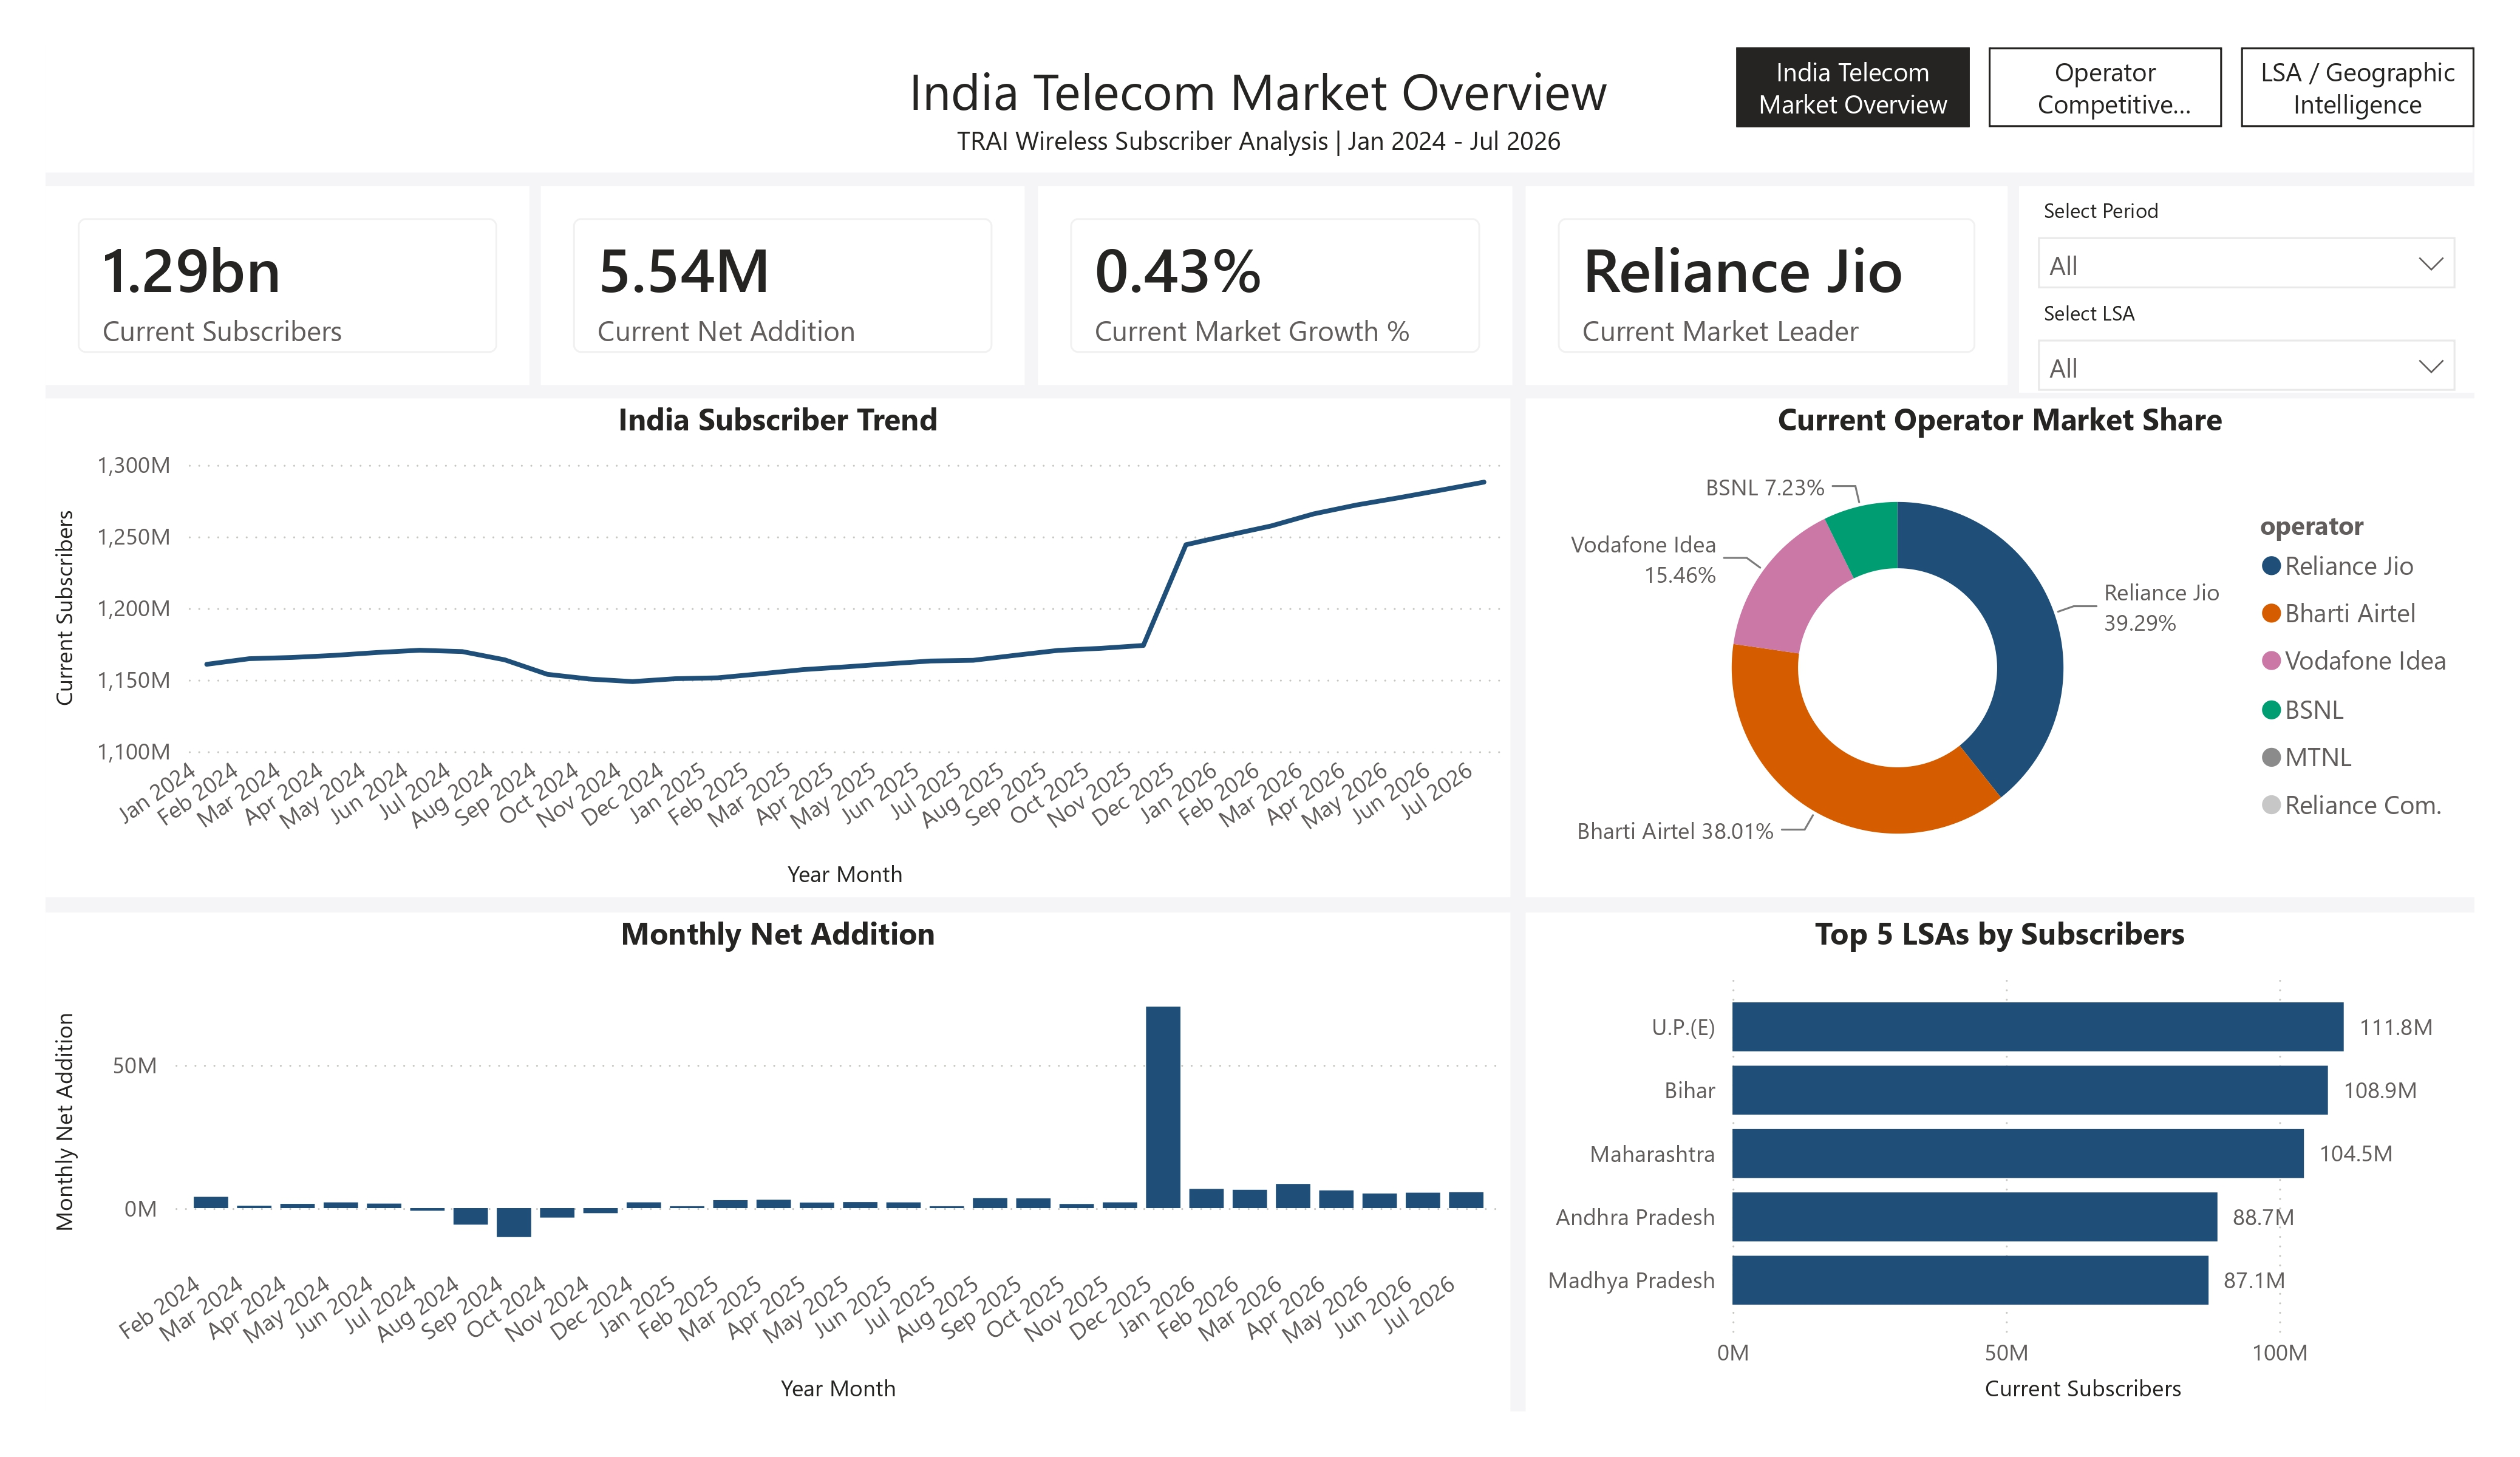

What the dashboard file says about the page in this screenshot:
{"tool":"powerbi","page":{"name":"India Telecom Market Overview","canvas":[1280,720],"ordinal":0},"visuals":[{"type":"cardVisual","fields":{"Data":["Fact_Telecom.Current Subscribers"]},"box":[0,74,255,105],"z":0},{"type":"cardVisual","fields":{"Data":["Fact_Telecom.Current Net Addition"]},"box":[261,74,255,105],"z":1000},{"type":"cardVisual","fields":{"Data":["Fact_Telecom.Current Market Growth %"]},"box":[522.9,74,250,105],"z":2000},{"type":"lineChart","title":"India Subscriber Trend","fields":{"Category":["Dim_Date.Year Month"],"Y":["Fact_Telecom.Current Subscribers"]},"box":[0,186,772,263],"z":3000},{"type":"clusteredColumnChart","title":"Monthly Net Addition","fields":{"Category":["Dim_Date.Year Month"],"Y":["Fact_Telecom.Monthly Net Addition"]},"box":[0,457,772,263],"z":4000},{"type":"donutChart","title":"Current Operator Market Share","fields":{"Category":["Fact_Telecom.operator"],"Y":["Fact_Telecom.Current Operator Share %"]},"box":[780,186,500,263],"z":5000},{"type":"cardVisual","fields":{"Data":["Fact_Telecom.Current Market Leader"]},"box":[780,74,254,105],"z":6000},{"type":"slicer","fields":{"Values":["Dim_Date.Year Month"]},"box":[1040,74,240,54],"z":7000},{"type":"slicer","title":"Select LSA","fields":{"Values":["Fact_Telecom.lsa"]},"box":[1040,128,240,54.7],"z":8000},{"type":"clusteredBarChart","title":"Top 5 LSAs by Subscribers","fields":{"Category":["Fact_Telecom.lsa"],"Y":["Fact_Telecom.Current Subscribers"]},"box":[780,457,500,263],"z":9000},{"type":"textbox","box":[0,0,1278.4,47.3],"z":10000},{"type":"textbox","box":[0,36,1278.7,30.7],"z":11000},{"type":"pageNavigator","box":[890.9,1.4,389.1,42],"z":11001}]}

Visuals, with their boxes on the page's 1280x720 design canvas (x1, y1, x2, y2). These are canvas units, not pixel positions in the 2520x1457 screenshot, which may show the page scaled, cropped or inside an application window:
cardVisual - Fact_Telecom.Current Subscribers: box=[0, 74, 255, 179]
cardVisual - Fact_Telecom.Current Net Addition: box=[261, 74, 516, 179]
cardVisual - Fact_Telecom.Current Market Growth %: box=[523, 74, 773, 179]
"India Subscriber Trend" lineChart: box=[0, 186, 772, 449]
"Monthly Net Addition" clusteredColumnChart: box=[0, 457, 772, 720]
"Current Operator Market Share" donutChart: box=[780, 186, 1280, 449]
cardVisual - Fact_Telecom.Current Market Leader: box=[780, 74, 1034, 179]
slicer - Dim_Date.Year Month: box=[1040, 74, 1280, 128]
"Select LSA" slicer: box=[1040, 128, 1280, 183]
"Top 5 LSAs by Subscribers" clusteredBarChart: box=[780, 457, 1280, 720]
textbox: box=[0, 0, 1278, 47]
textbox: box=[0, 36, 1279, 67]
pageNavigator: box=[891, 1, 1280, 43]
